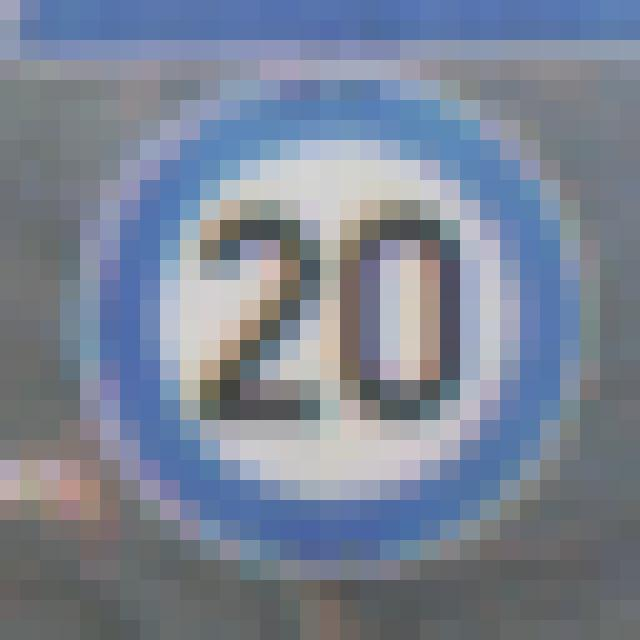SPEED LIMIT 20: (80, 83, 594, 584)
